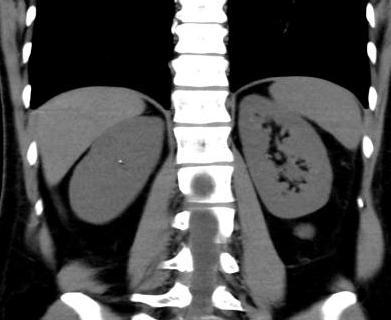Tas_Var: (114, 157, 126, 165)
